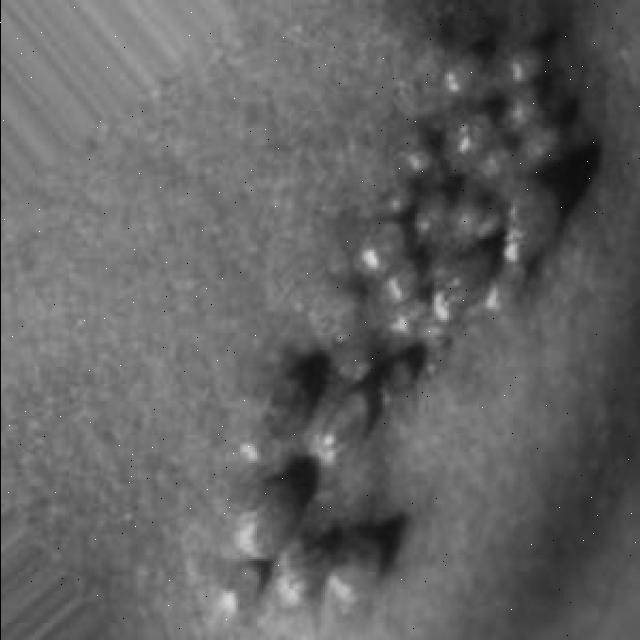Shingles: (219, 2, 564, 617)
